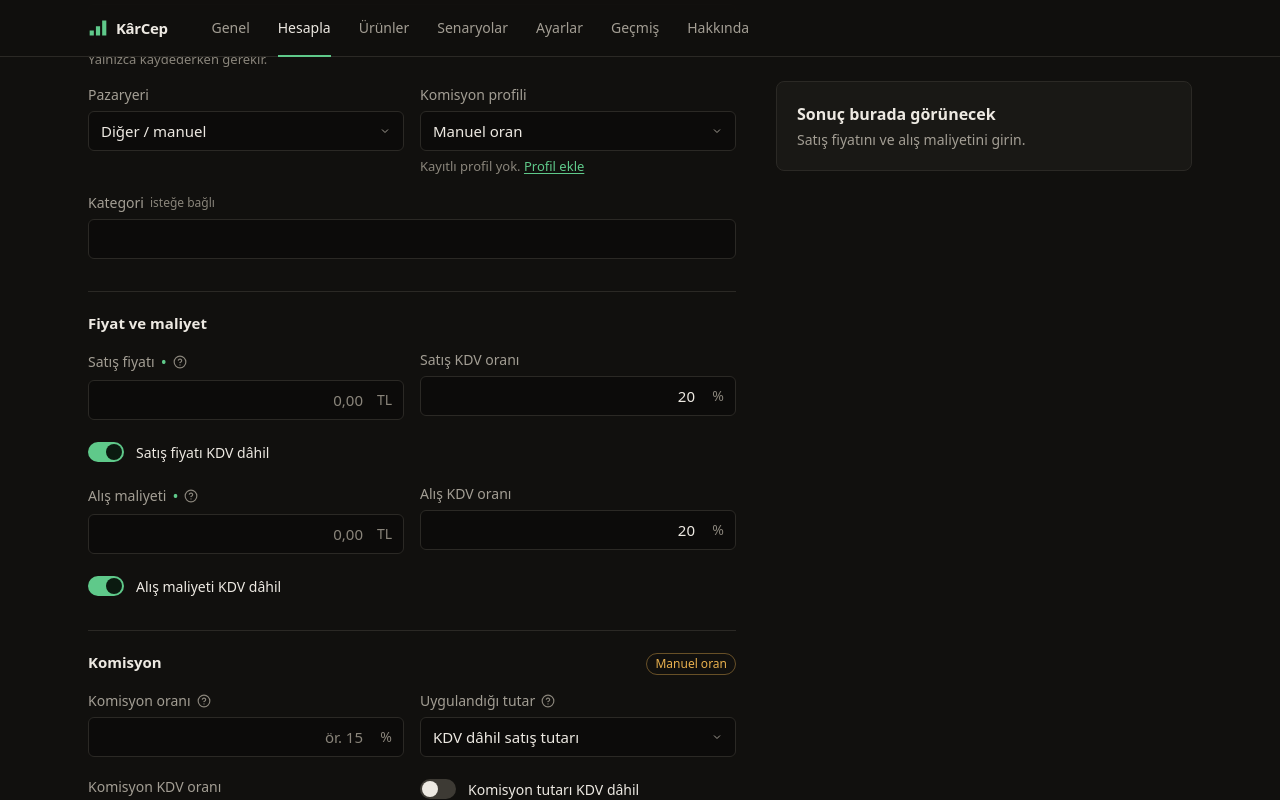
Scenario: KarcepApp › hesaplayıcı yazarken sonucu günceller, hataları gösterir ve ürünü kaydeder
This screenshot has width=1280, height=800.
Later steps or results of the test are not shown.
(page scrolled)
Expected: the text "Sonuç burada görünecek" is shown, [797,102,996,124]
In the field labelled "Satış fiyatı": (246, 400) [88,380,404,420], type "599"
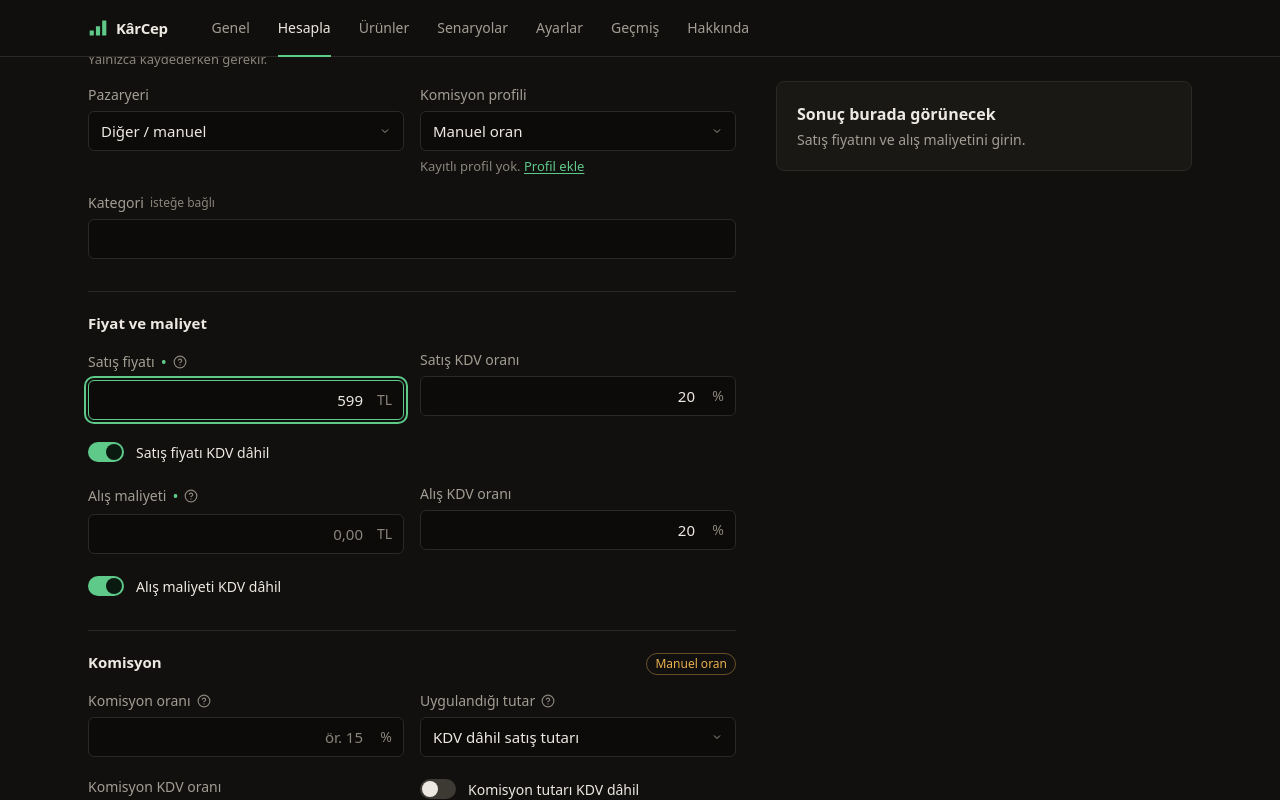
In the field labelled "Alış maliyeti": (246, 534) [88,514,404,554], type "250"
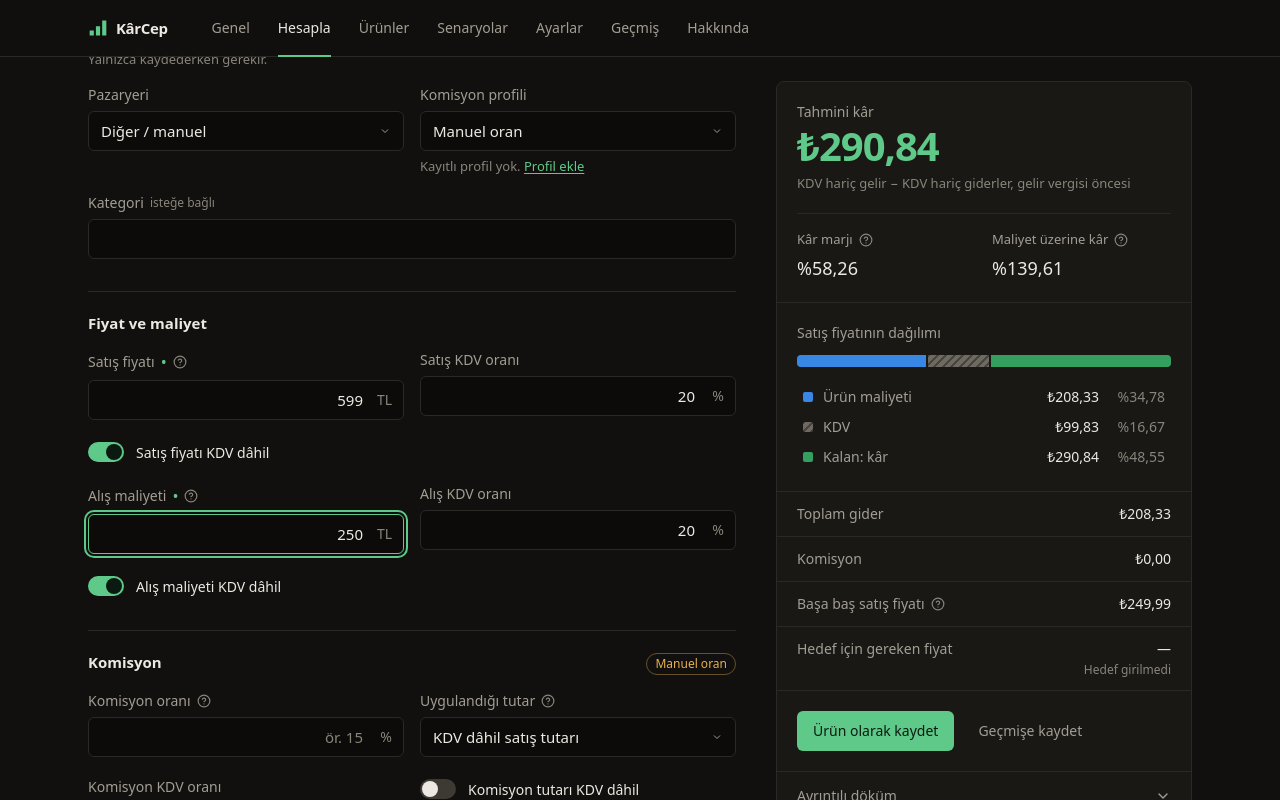
In the field labelled "Komisyon oranı": (246, 737) [88,717,404,757], type "20"
(page scrolled)
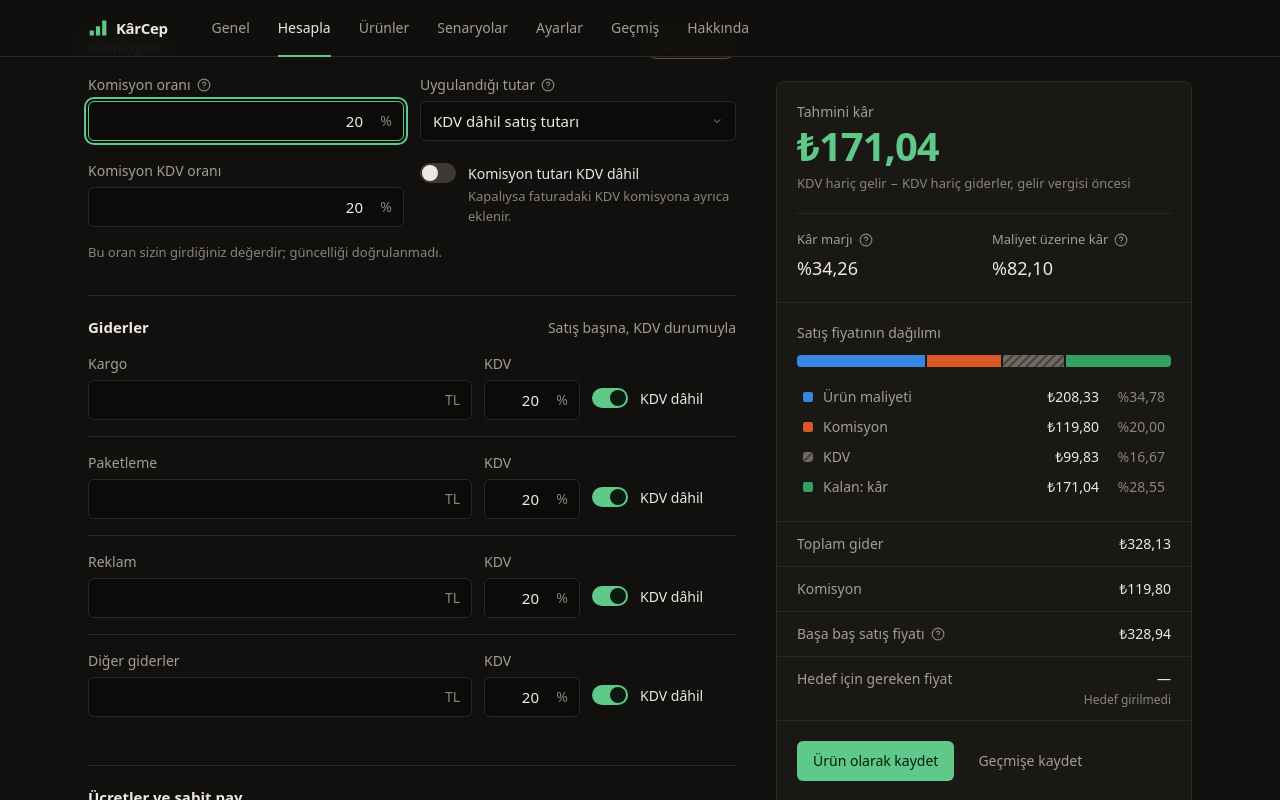
In the field labelled "Kargo": (280, 400) [88,380,472,420], type "45"
(page scrolled)
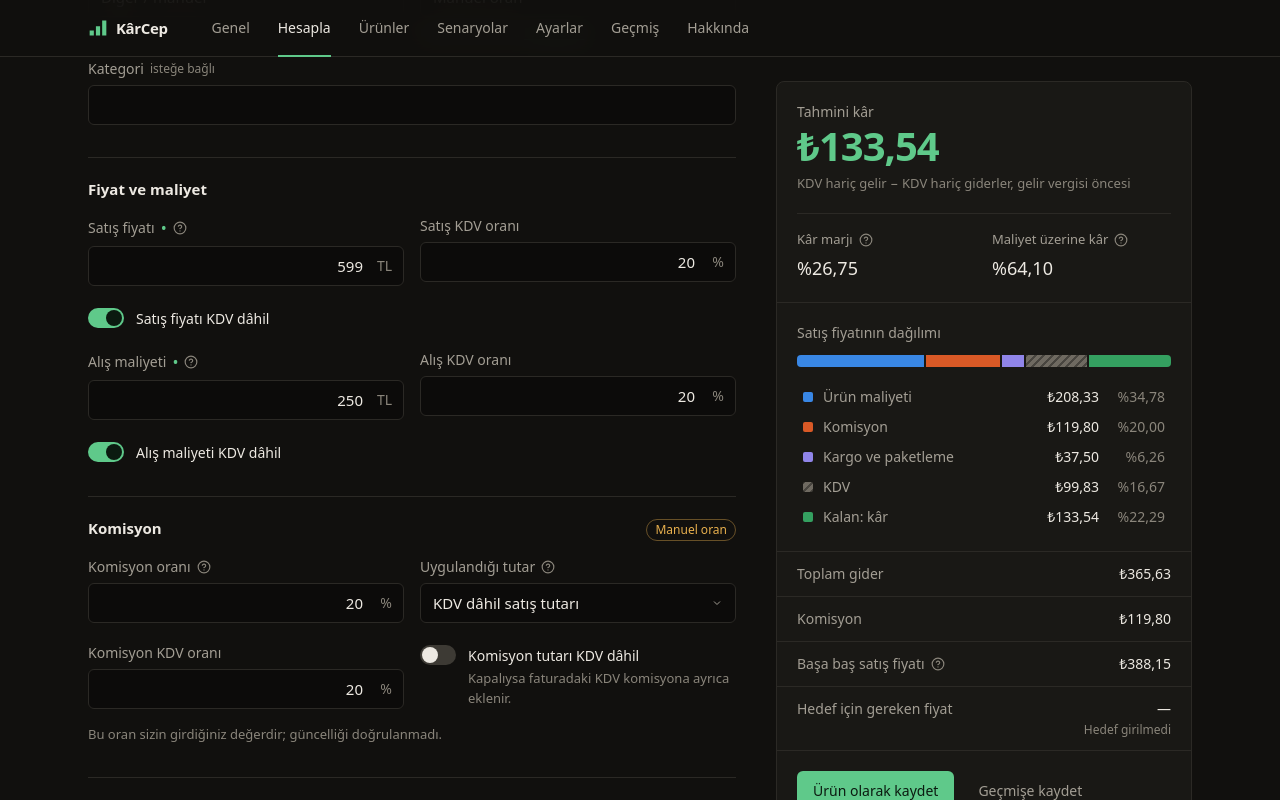
Expected: the text "Tahmini kâr" is shown, [797,101,874,120]
Expected: the picture named "Satış fiyatı ₺599,00 dağılımı" is shown, [797,354,1171,366]
Expected: the text "₺133,54" below "Tahmini kâr" is shown, [797,117,939,172]
Replace the text in the field labelled "Alış maliyeti" with "-5": (246, 400) [88,380,404,420]
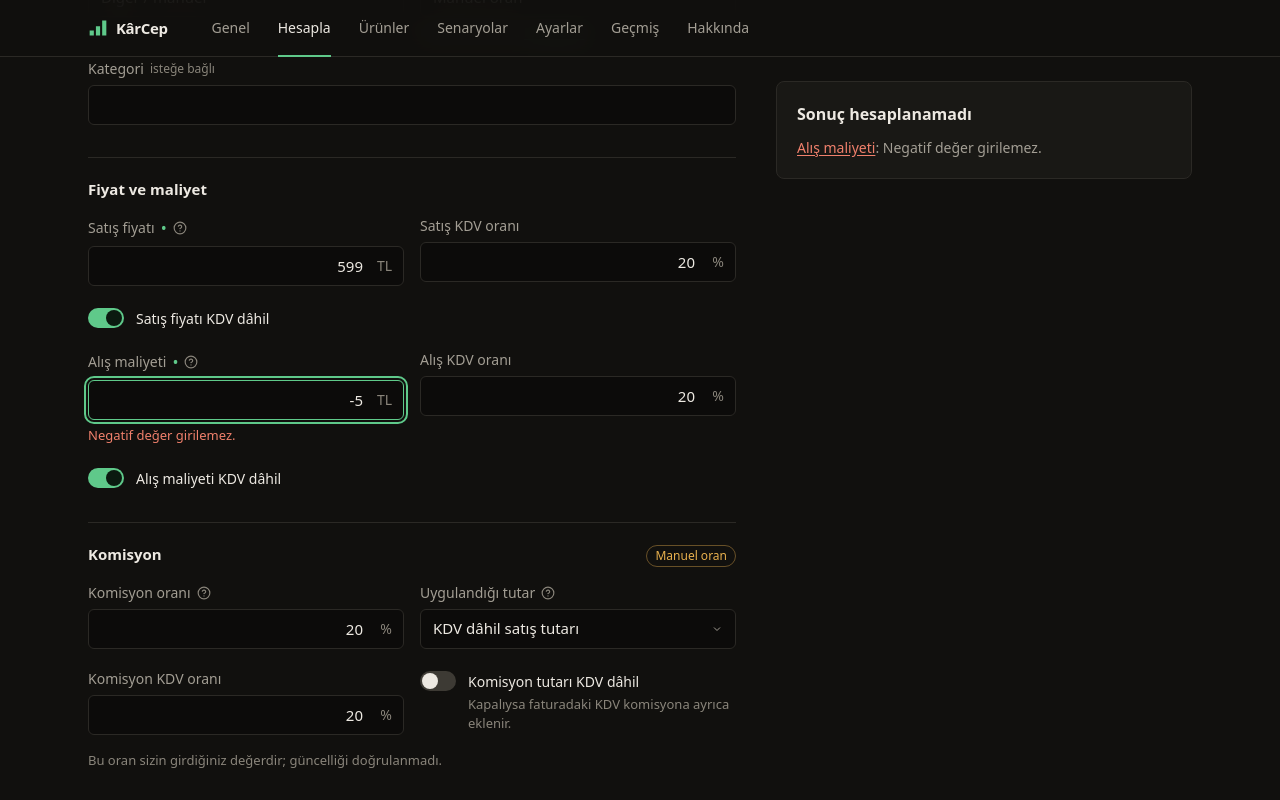
Expected: the text "Sonuç hesaplanamadı" is shown, [797,102,972,124]
Expected: the text "Negatif değer girilemez." is shown, [88,426,236,444]
